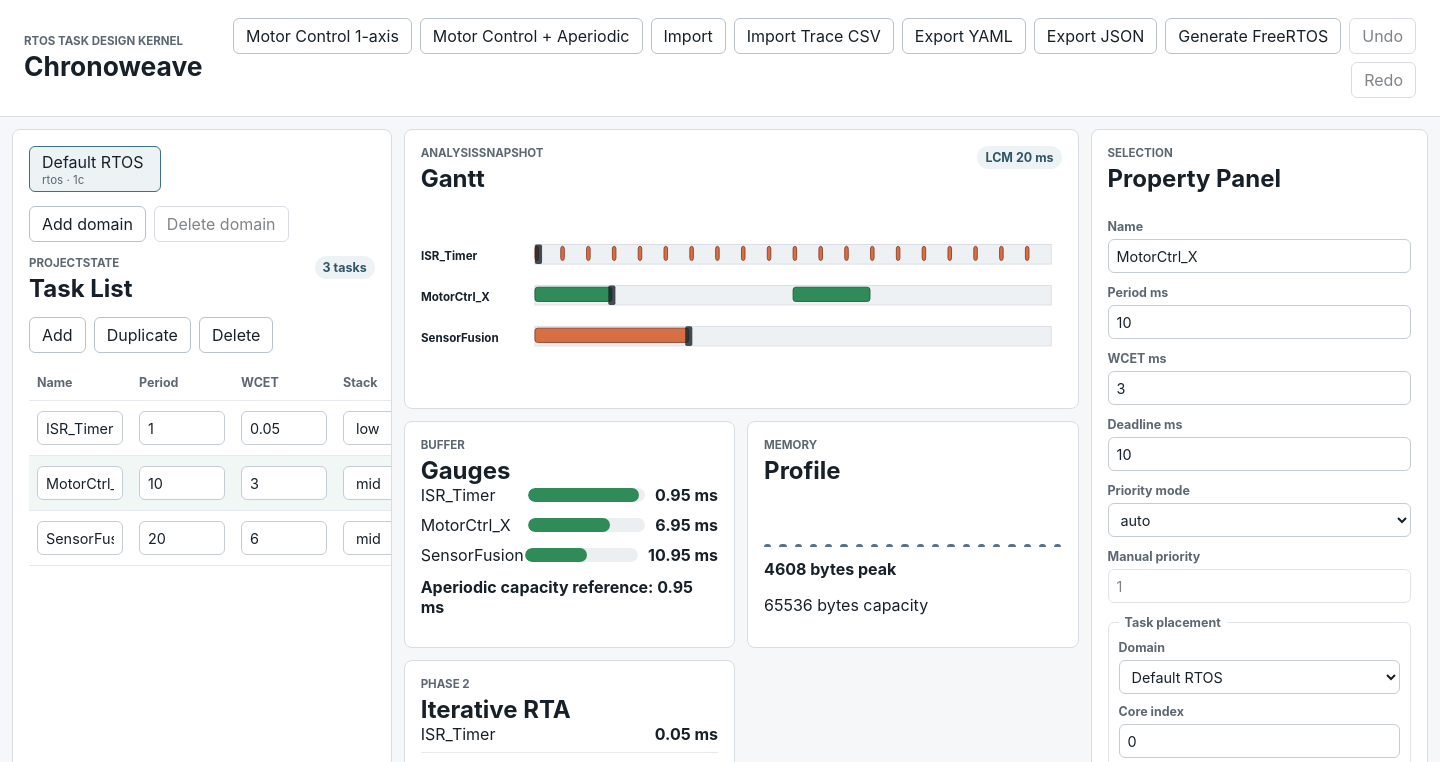
Test case: App shell › duplicates MotorCtrl_X and updates derived panels
The width and height of the screenshot is (1440, 762).
What coordinates should you click on to do the following:
click the button "Duplicate"
I would click on:
 (142, 335)
Its box is [94,317,191,353].
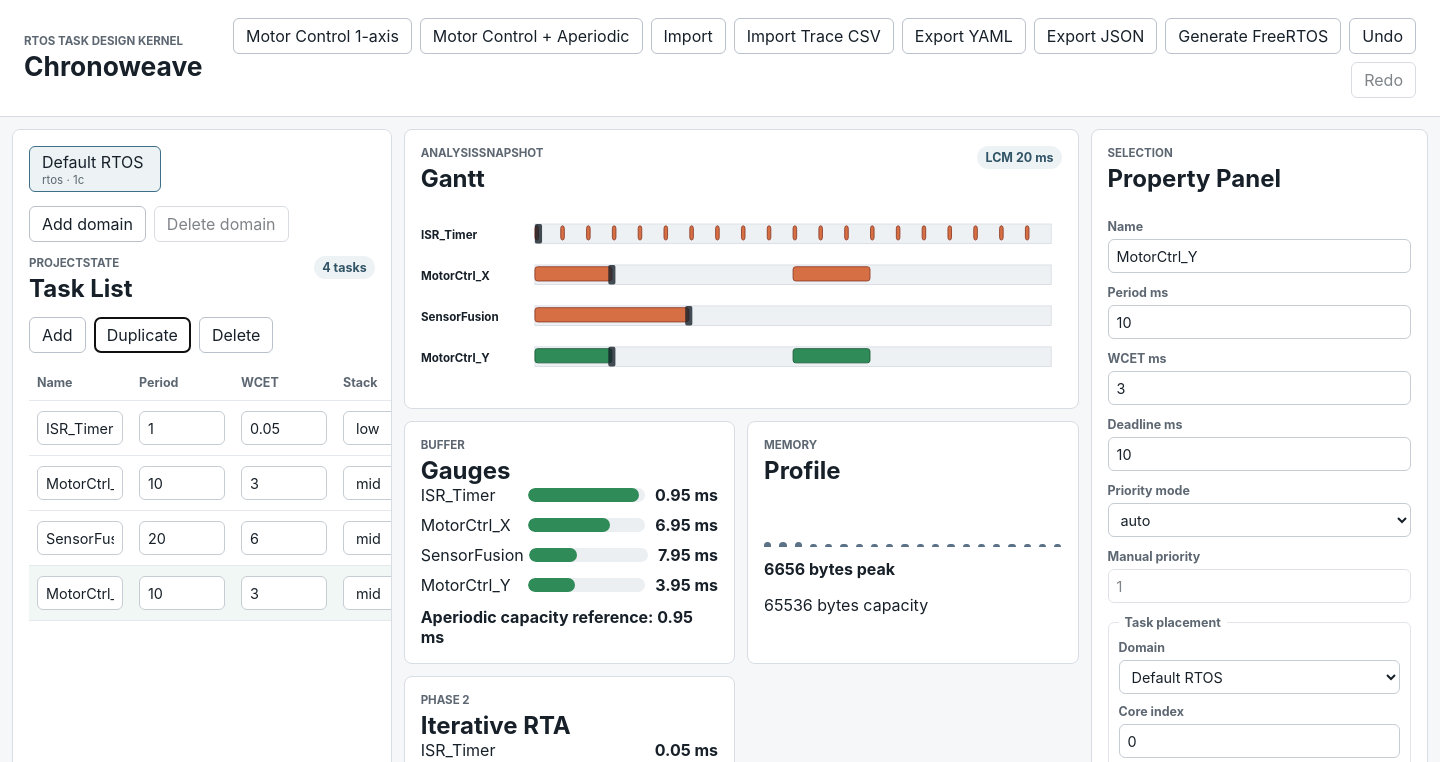
Check: the text "Aperiodic capacity reference: 0.95 ms" is shown, box [421,607,693,647]
Check: the number of fields showing "MotorCtrl_Y" is 2, box [37,576,123,610]; [1108,239,1411,273]
